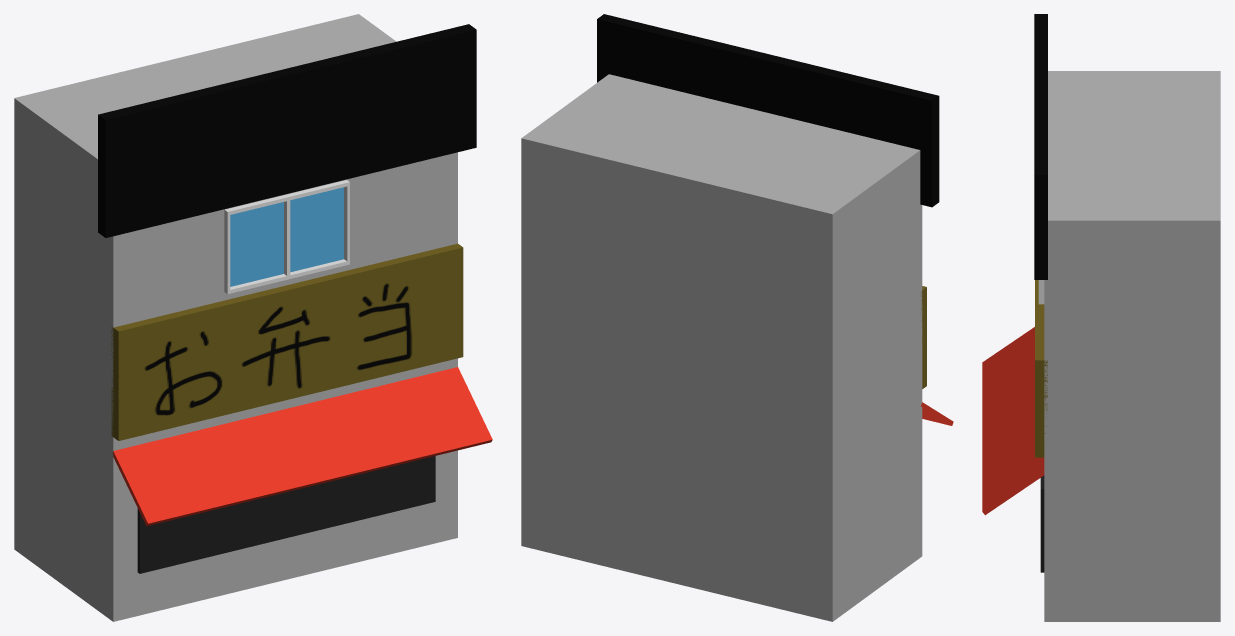
The model's file is Shop.fbx.
The picture shows the model from 3 angles, left to right: view 1: azimuth 30°, elevation 25°; view 2: azimuth 150°, elevation 25°; view 3: azimuth 270°, elevation 25°; orthographic projection. The views are drawn at different scales.
Visible parts, largest first — view 1: Store, UpSignBoard, SignBoard, Roof, Gate, Window; view 2: Store, UpSignBoard; view 3: Store, Roof, UpSignBoard, SignBoard, Gate.
Part boxes in pixels (x1,y1,x2,y2): Store: [14, 14, 457, 621]; UpSignBoard: [98, 24, 476, 237]; SignBoard: [111, 243, 463, 440]; Roof: [112, 367, 492, 526]; Gate: [137, 456, 435, 573]; Window: [224, 180, 349, 294]; Store: [521, 74, 922, 621]; UpSignBoard: [597, 14, 939, 207]; Store: [1044, 71, 1220, 621]; Roof: [982, 327, 1044, 515]; UpSignBoard: [1034, 14, 1047, 279]; SignBoard: [1035, 280, 1047, 457]; Gate: [1040, 475, 1044, 572].
Size of the model in its own units: 858 by 1126 by 537.
